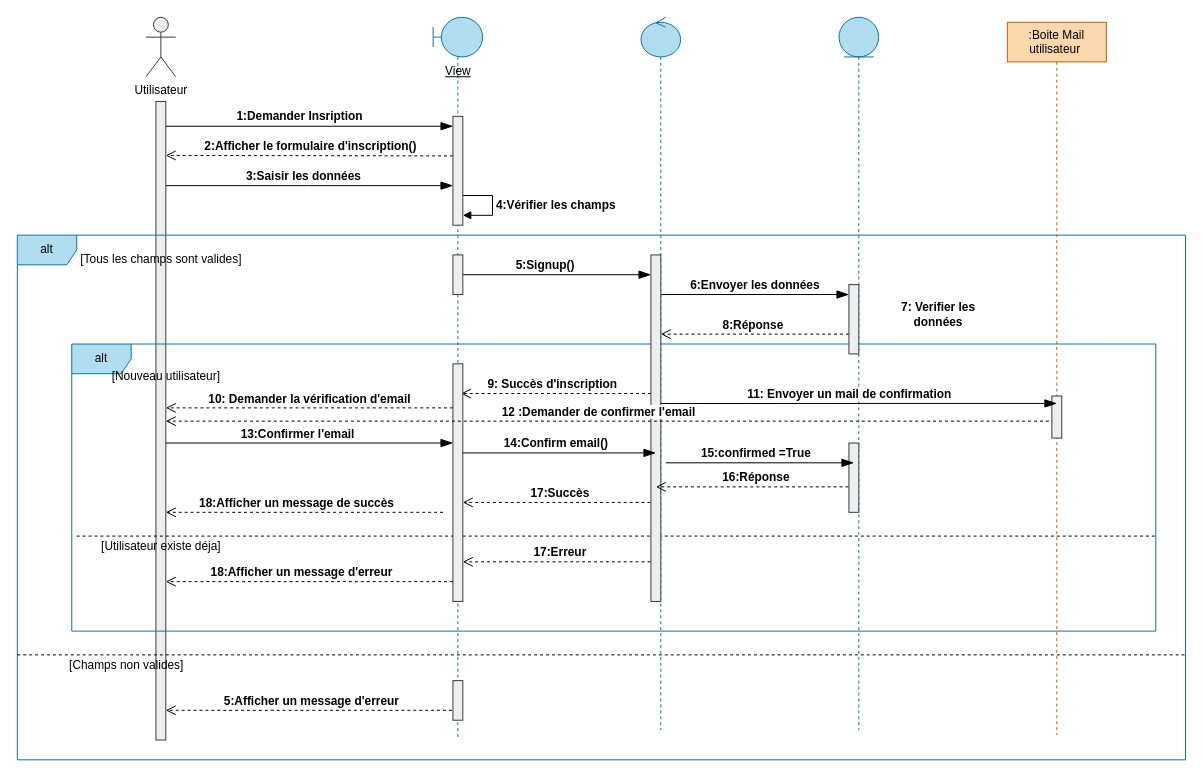
Some shapes in this 1203 by 777 pixel diagram are drawn without their labels. Here are the shapes that lost their labels. From the top down, the centre of each, then its label:
At point 660,373: "Controler".
At point 858,373: "Model".
